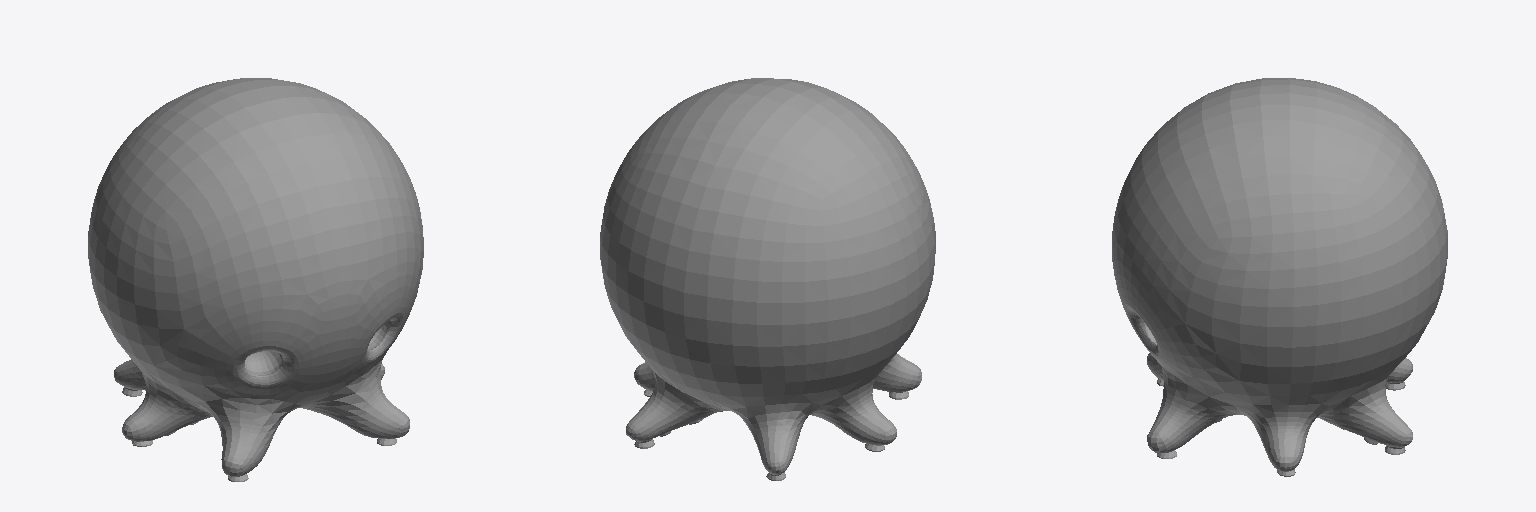
File: Octopus.obj
The picture shows the model from 3 angles: view 1: azimuth 30°, elevation 25°; view 2: azimuth 150°, elevation 25°; view 3: azimuth 270°, elevation 25°; orthographic projection.
Parts seen in each view (by area): view 1: Body_Mesh; view 2: Body_Mesh; view 3: Body_Mesh.
Part boxes in pixels (x1,y1,x2,y2): Body_Mesh: (88,78,423,481); Body_Mesh: (600,78,935,480); Body_Mesh: (1112,78,1447,476).
Size of the model in its own units: 4.79 by 5.13 by 4.81.